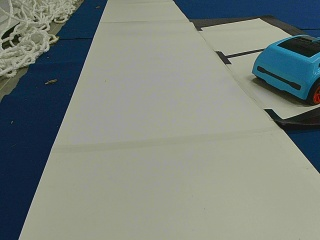car: (251, 34, 318, 104)
